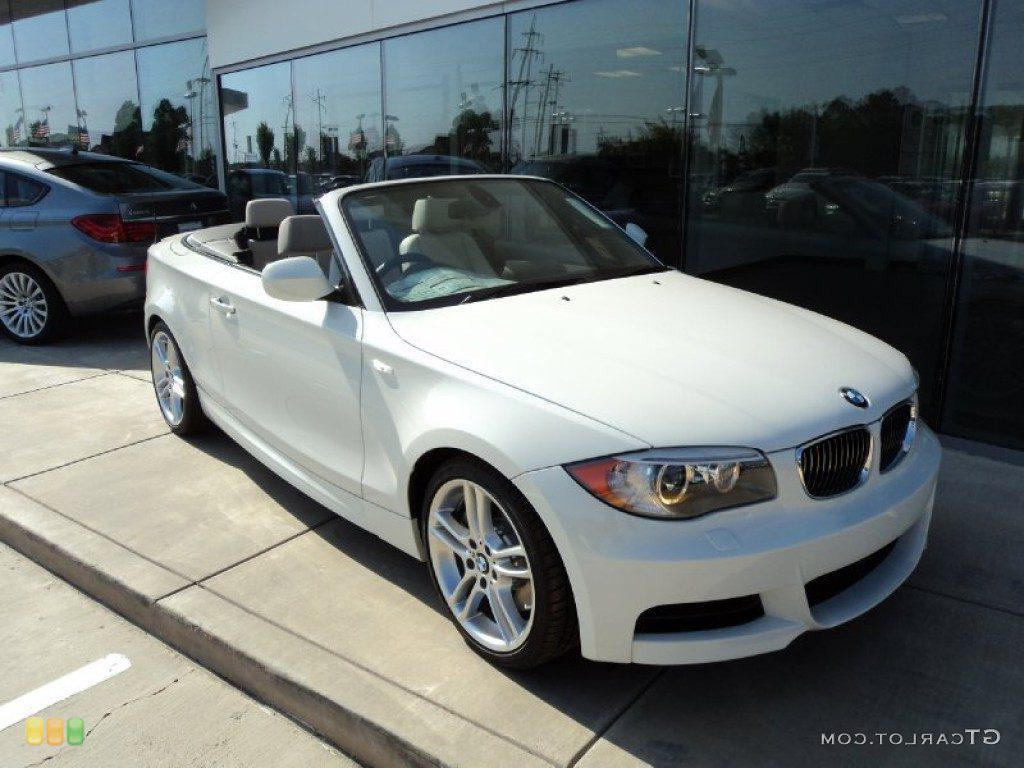Car: (105, 141, 974, 701), (2, 121, 245, 357)
